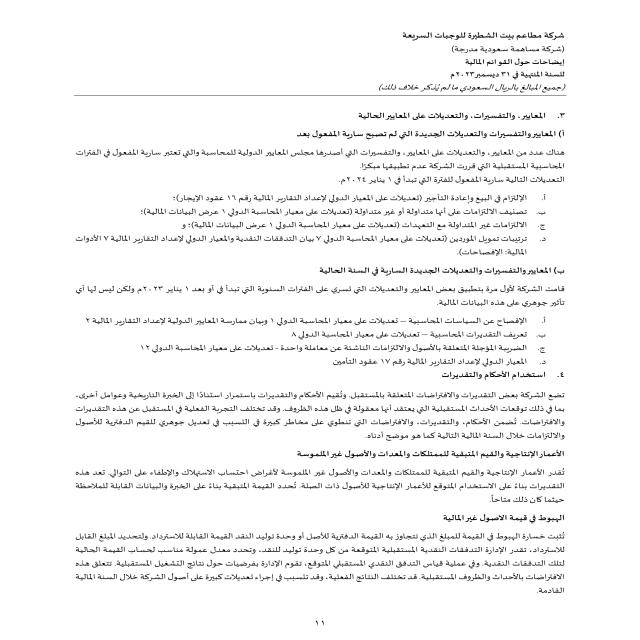notes: (462, 57, 574, 70)
text: (22, 109, 574, 620)
